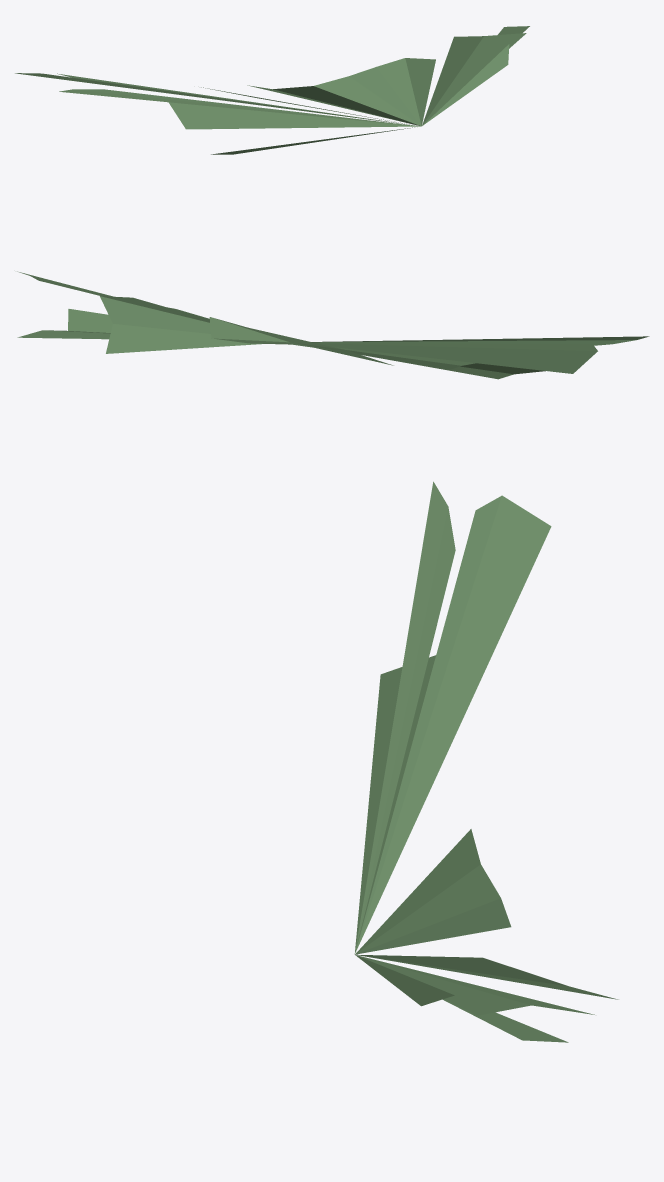
Rendered from c_1673_17816_forest.glb.
The picture shows the model from 3 angles, top to bottom: view 1: azimuth 30°, elevation 25°; view 2: azimuth 150°, elevation 25°; view 3: azimuth 270°, elevation 25°; orthographic projection. The views are drawn at different scales.
Parts seen in each view (by area): view 1: geometry_0; view 2: geometry_0; view 3: geometry_0.
Part boxes in pixels (x1,y1,x2,y2): geometry_0: [15, 26, 529, 154]; geometry_0: [17, 271, 649, 379]; geometry_0: [354, 481, 618, 1042].
Size of the model in its own units: 411 by 101 by 218.
